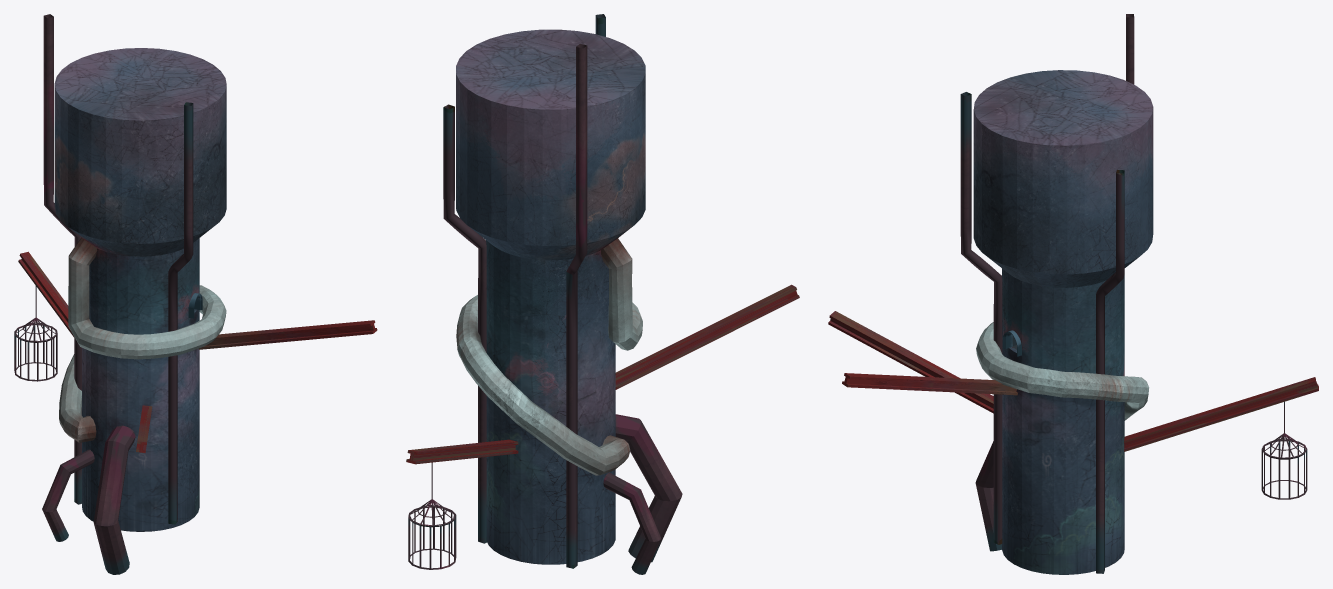
File: tower_textured.fbx
3 renders of one model, left to right at view 1: azimuth 30°, elevation 25°; view 2: azimuth 150°, elevation 25°; view 3: azimuth 270°, elevation 25°, orthographic. The views are drawn at different scales.
Visible parts, largest first — view 1: Cylinder.003, Plane.008, Plane.004, Plane.007, Plane.003, Cube.013, Plane.006, Cylinder.023, Cube.014, Cube.015; view 2: Cylinder.003, Plane.008, Plane.003, Plane.005, Plane.007, Cube.015, Plane.006, Cube.014, Cylinder.023; view 3: Cylinder.003, Plane.008, Plane.004, Plane.005, Cube.014, Cube.013, Cube.015, Plane.007, Cylinder.023, Plane.003.
Part boxes in pixels (left/top/right/bottom): Cylinder.003: left=54, top=48, right=226, bottom=531; Plane.008: left=59, top=237, right=226, bottom=442; Plane.004: left=168, top=102, right=193, bottom=524; Plane.007: left=93, top=425, right=135, bottom=574; Plane.003: left=43, top=14, right=81, bottom=504; Cube.013: left=198, top=320, right=377, bottom=349; Plane.006: left=42, top=449, right=94, bottom=541; Cylinder.023: left=14, top=323, right=57, bottom=381; Cube.014: left=18, top=251, right=74, bottom=337; Cube.015: left=136, top=405, right=152, bottom=453; Cylinder.003: left=456, top=29, right=645, bottom=564; Plane.008: left=456, top=238, right=642, bottom=475; Plane.003: left=566, top=44, right=587, bottom=568; Plane.005: left=443, top=104, right=486, bottom=543; Plane.007: left=615, top=414, right=682, bottom=562; Cube.015: left=615, top=284, right=799, bottom=389; Plane.006: left=603, top=472, right=661, bottom=574; Cube.014: left=406, top=439, right=518, bottom=464; Cylinder.023: left=408, top=506, right=456, bottom=569; Cylinder.003: left=973, top=70, right=1153, bottom=574; Plane.008: left=976, top=322, right=1149, bottom=420; Plane.004: left=960, top=92, right=1002, bottom=544; Plane.005: left=1096, top=169, right=1124, bottom=573; Cube.014: left=1124, top=377, right=1318, bottom=451; Cube.013: left=842, top=373, right=1017, bottom=395; Cube.015: left=828, top=311, right=993, bottom=413; Plane.007: left=975, top=441, right=1001, bottom=551; Cylinder.023: left=1261, top=439, right=1307, bottom=499; Plane.003: left=1126, top=14, right=1134, bottom=84.
Bounding box in the file's own units: 5102 × 10045 × 8375.
Materials: 8 (7 with a texture image).
